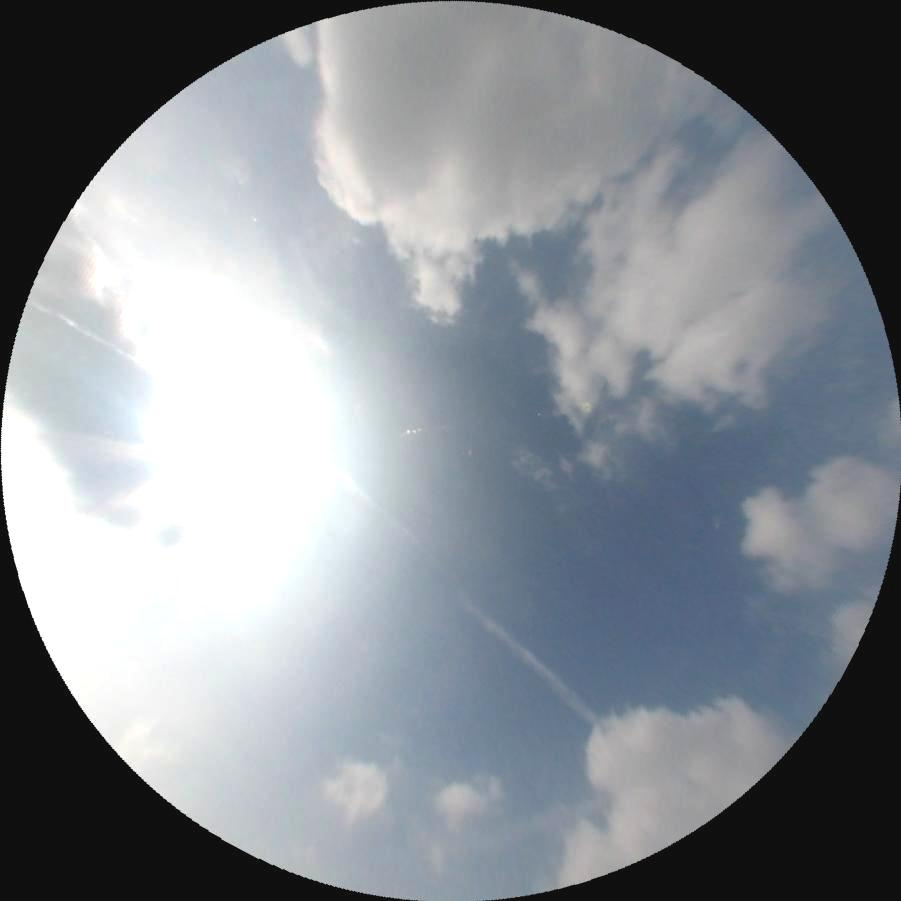contrail veryold: (287, 427, 606, 727)
parasite: (26, 295, 170, 381)
sun: (130, 370, 293, 541)
